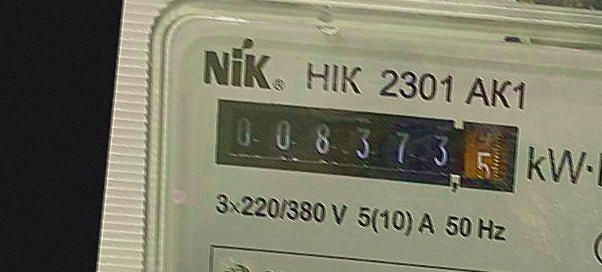0: (233, 112, 256, 149), (273, 115, 295, 152)
3: (429, 130, 455, 169), (351, 122, 376, 161)
4: (476, 126, 496, 148)
5: (474, 147, 496, 179)
7: (391, 125, 413, 166)
8: (312, 118, 336, 156)
screen: (206, 88, 530, 206)
